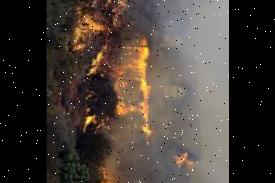fire: (57, 0, 143, 82), (80, 86, 131, 140), (81, 155, 130, 183)
